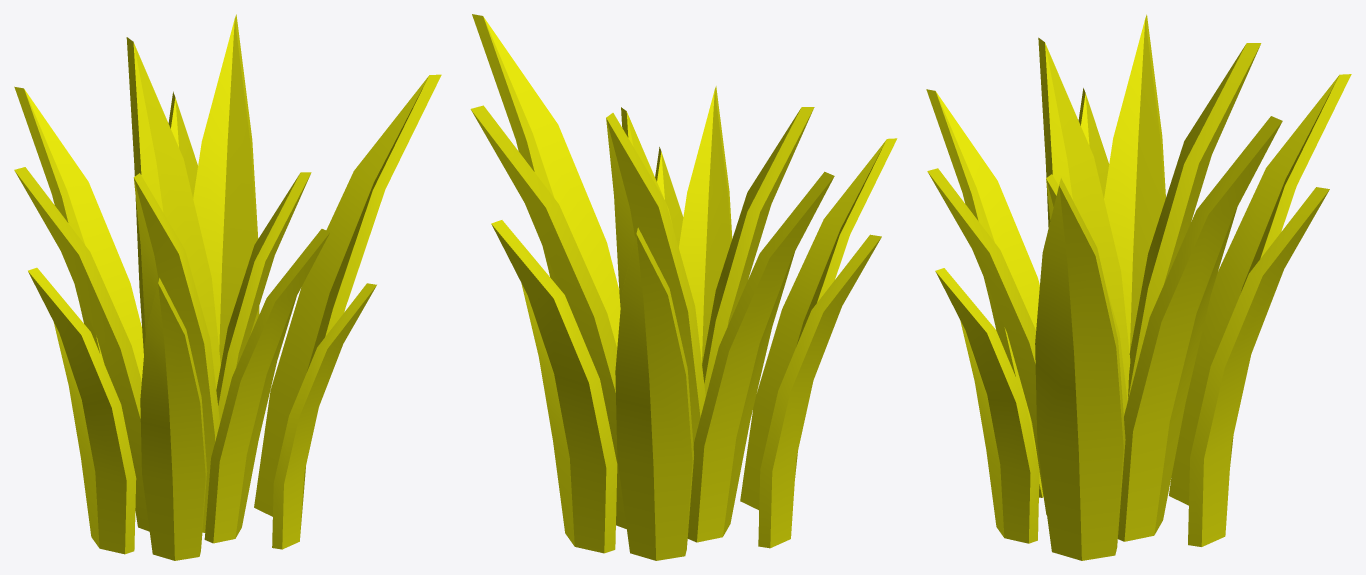
Rendered from kaykit-grass-2-c-color-1.glb.
3 views of the same model, side by side, from view 1: azimuth 30°, elevation 25°; view 2: azimuth 150°, elevation 25°; view 3: azimuth 270°, elevation 25° (orthographic). The views are drawn at different scales.
Parts seen in each view (by area): view 1: Grass_2_C_Color1; view 2: Grass_2_C_Color1; view 3: Grass_2_C_Color1.
Boxes of the visible parts, x1=… form: Grass_2_C_Color1: x1=14, y1=14, x2=441, y2=560; Grass_2_C_Color1: x1=470, y1=14, x2=897, y2=560; Grass_2_C_Color1: x1=926, y1=14, x2=1351, y2=560.
Size of the model in its own units: 0.8965 by 0.9352 by 0.7575.
